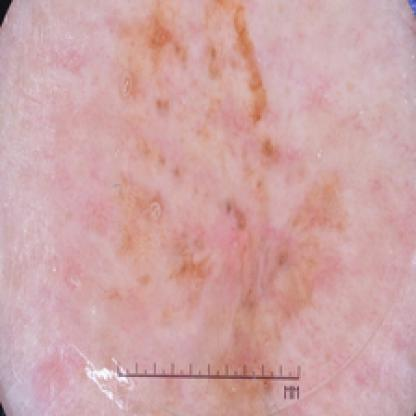malignant: (130, 30, 314, 319)
